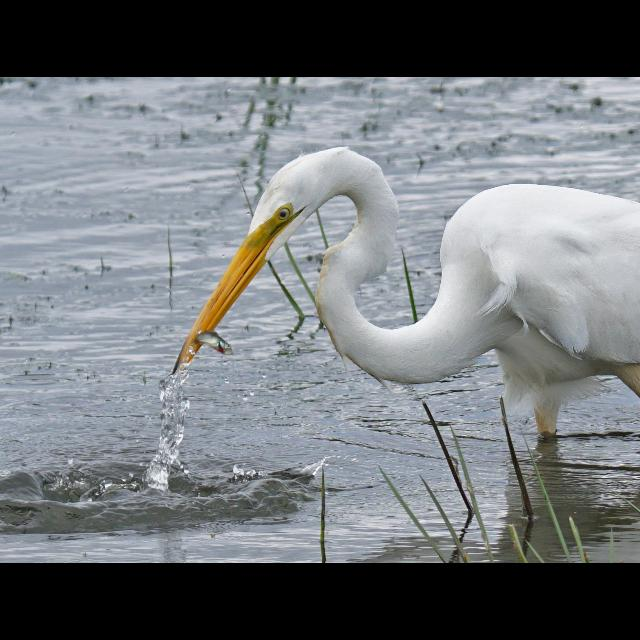egret: (170, 147, 640, 426)
